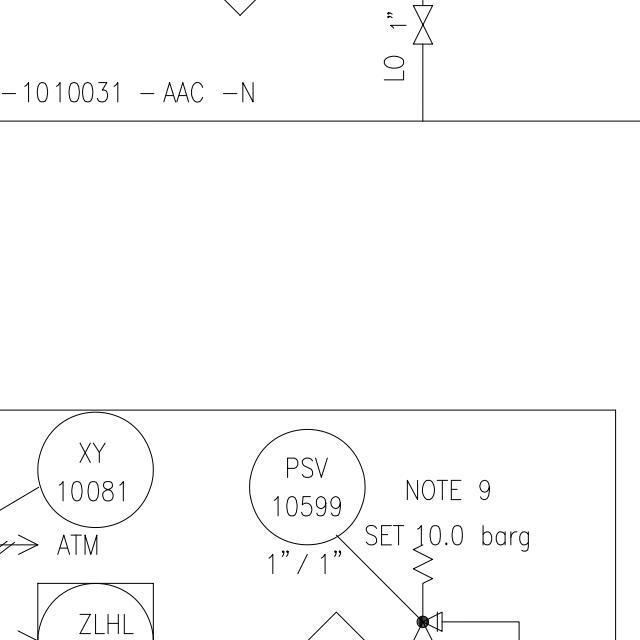GV: (408, 0, 441, 51)
RPV: (408, 535, 449, 640)
